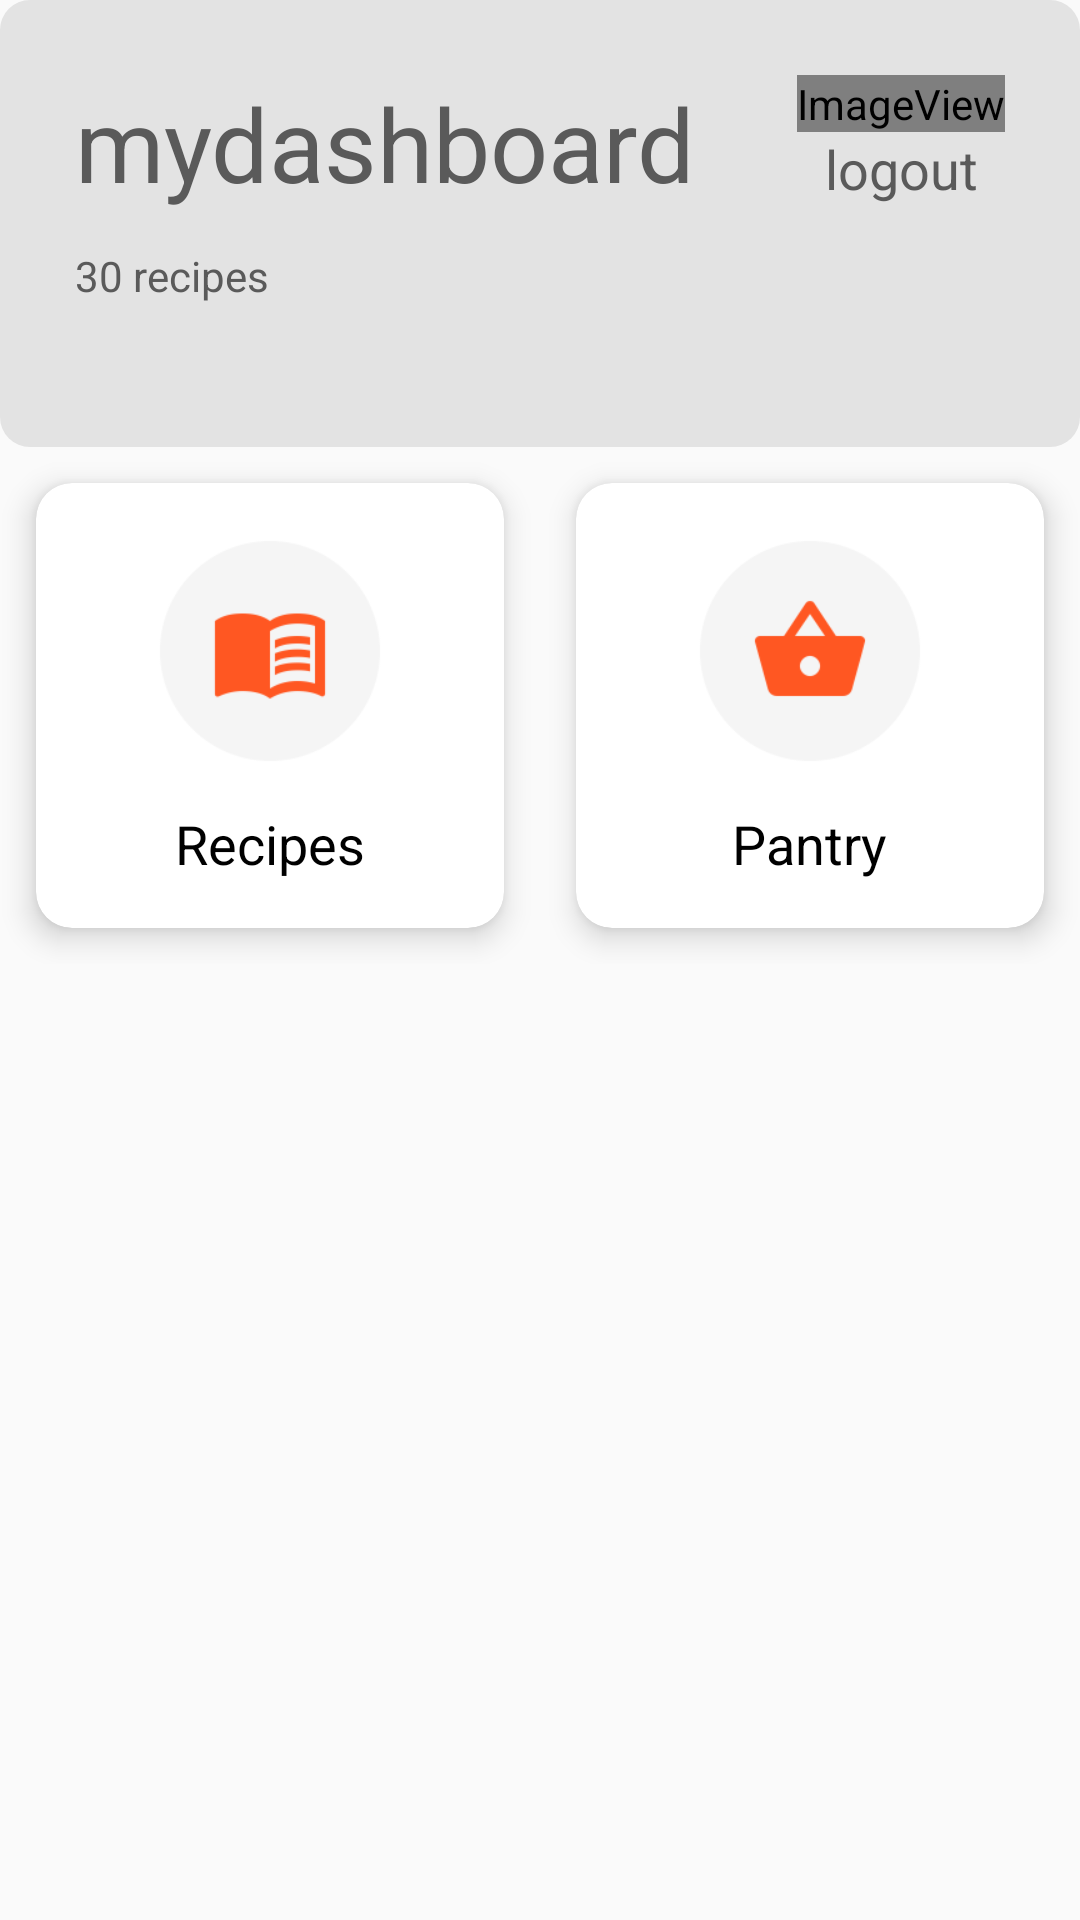

Where to tap for icons on this 1080w x 1920h app screen, as point (x, y):
shortcut menu book: point (270, 656)
shortcut shopping basket: point (810, 648)
